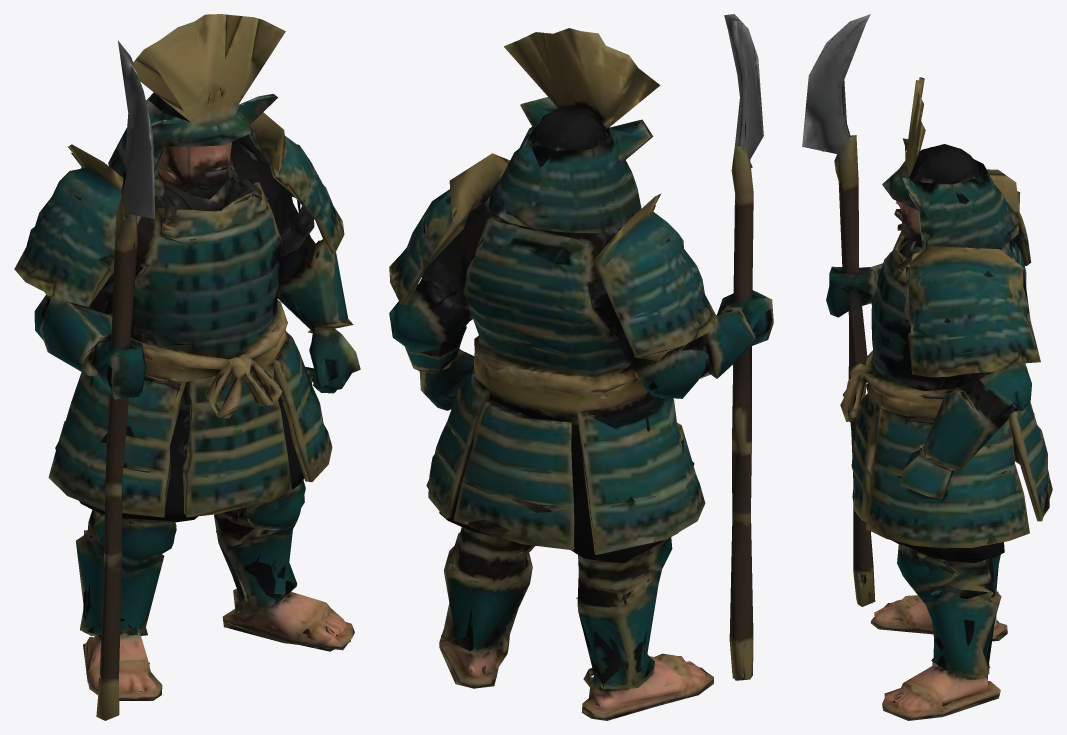
File: detail_5_lo.glb
3 views of the same model, side by side, from view 1: azimuth 30°, elevation 25°; view 2: azimuth 150°, elevation 25°; view 3: azimuth 270°, elevation 25° (orthographic). The views are drawn at different scales.
Parts seen in each view (by area): view 1: Mesh_0.001; view 2: Mesh_0.001; view 3: Mesh_0.001.
Part boxes in pixels (x1,y1,x2,y2): Mesh_0.001: [14, 14, 360, 720]; Mesh_0.001: [389, 14, 773, 720]; Mesh_0.001: [802, 14, 1052, 720].
Size of the model in its own units: 0.479 by 0.9987 by 0.3789.
1 material, 1 textured.
